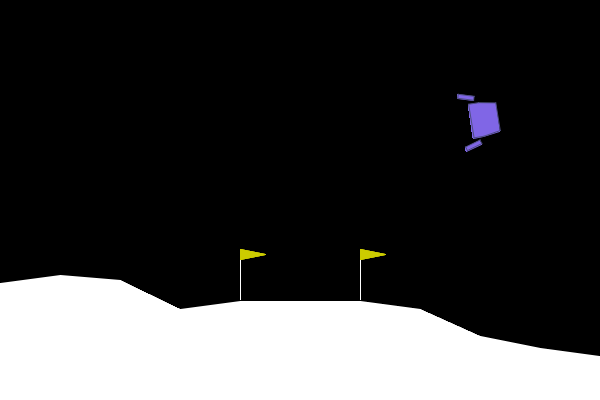lander: (455, 87, 504, 153)
